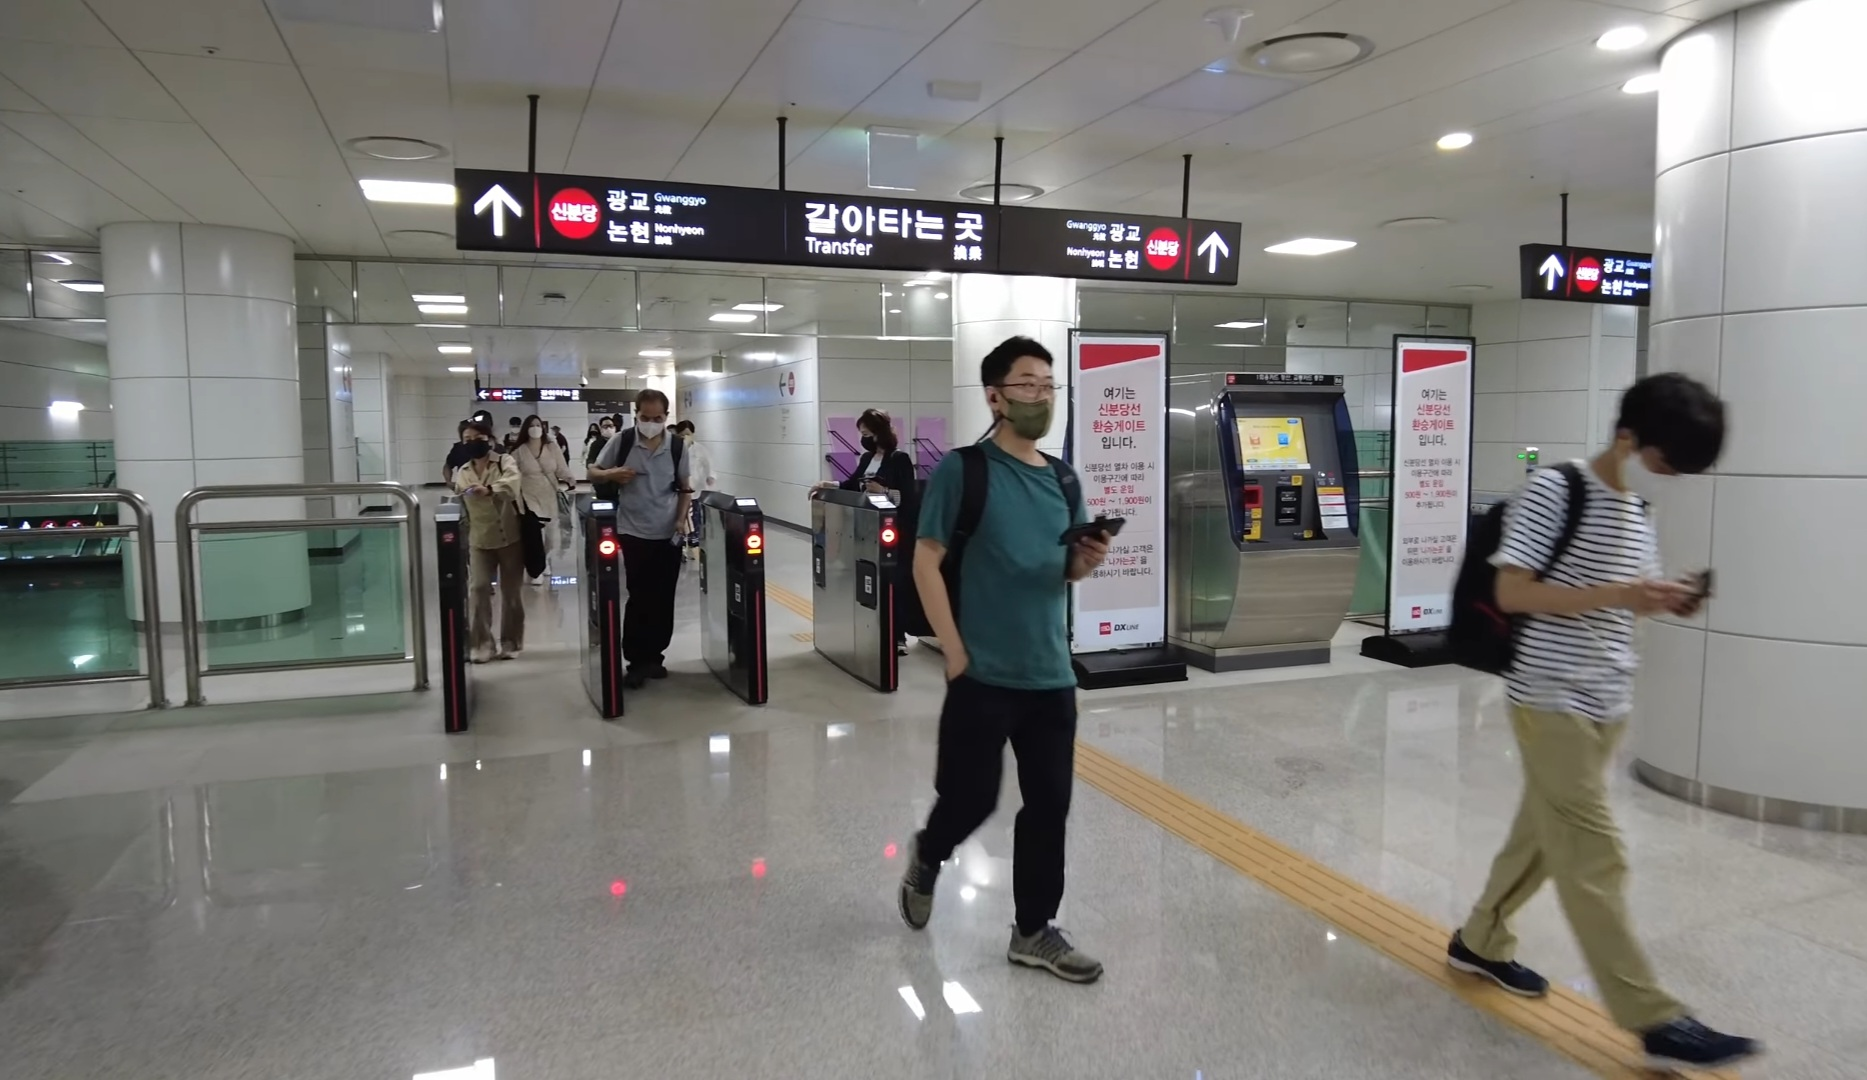signBoard: (449, 145, 1249, 292)
